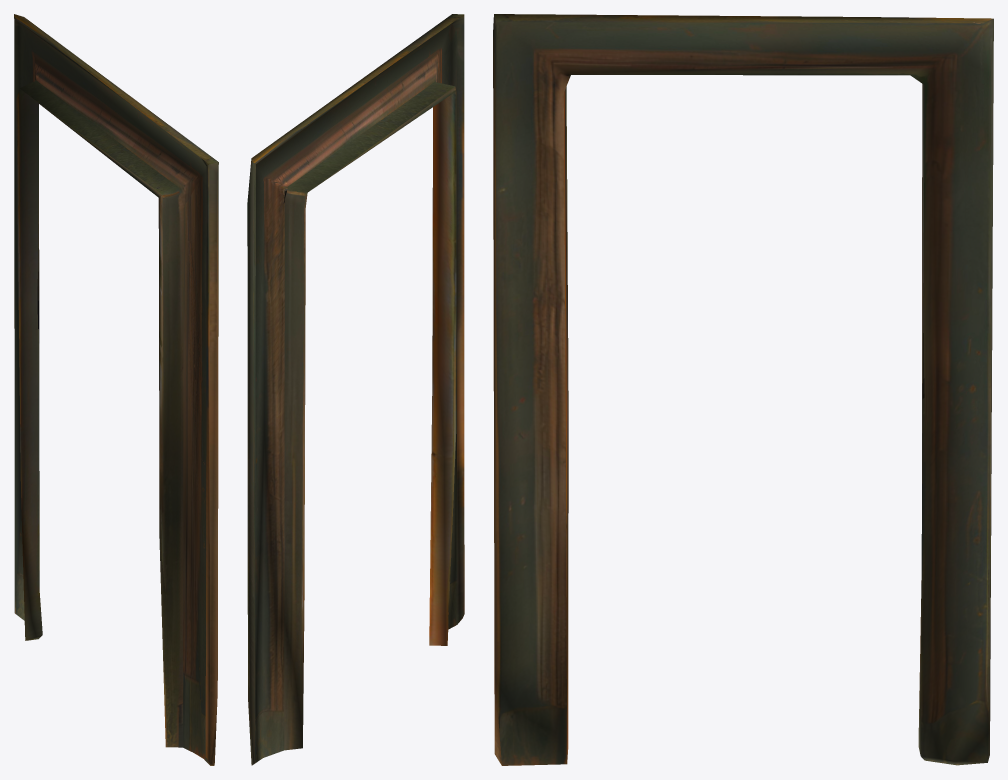
File: DoorPanel.fbx
The picture shows the model from 3 angles, left to right: view 1: azimuth 30°, elevation 25°; view 2: azimuth 150°, elevation 25°; view 3: azimuth 270°, elevation 25°; orthographic projection. The views are drawn at different scales.
Parts seen in each view (by area): view 1: tripo_node_a97281a3; view 2: tripo_node_a97281a3; view 3: tripo_node_a97281a3.
Part boxes in pixels (x1=…): tripo_node_a97281a3: x1=14, y1=14, x2=218, y2=765; tripo_node_a97281a3: x1=247, y1=14, x2=464, y2=765; tripo_node_a97281a3: x1=493, y1=14, x2=993, y2=765.
Bounding box in the file's own units: 5.93 × 94.14 × 57.19.
1 material, 1 textured.
